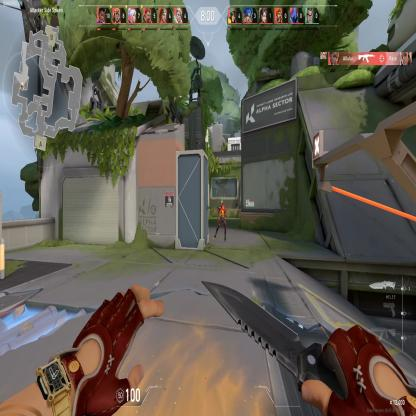enemy: (212, 198, 227, 242)
